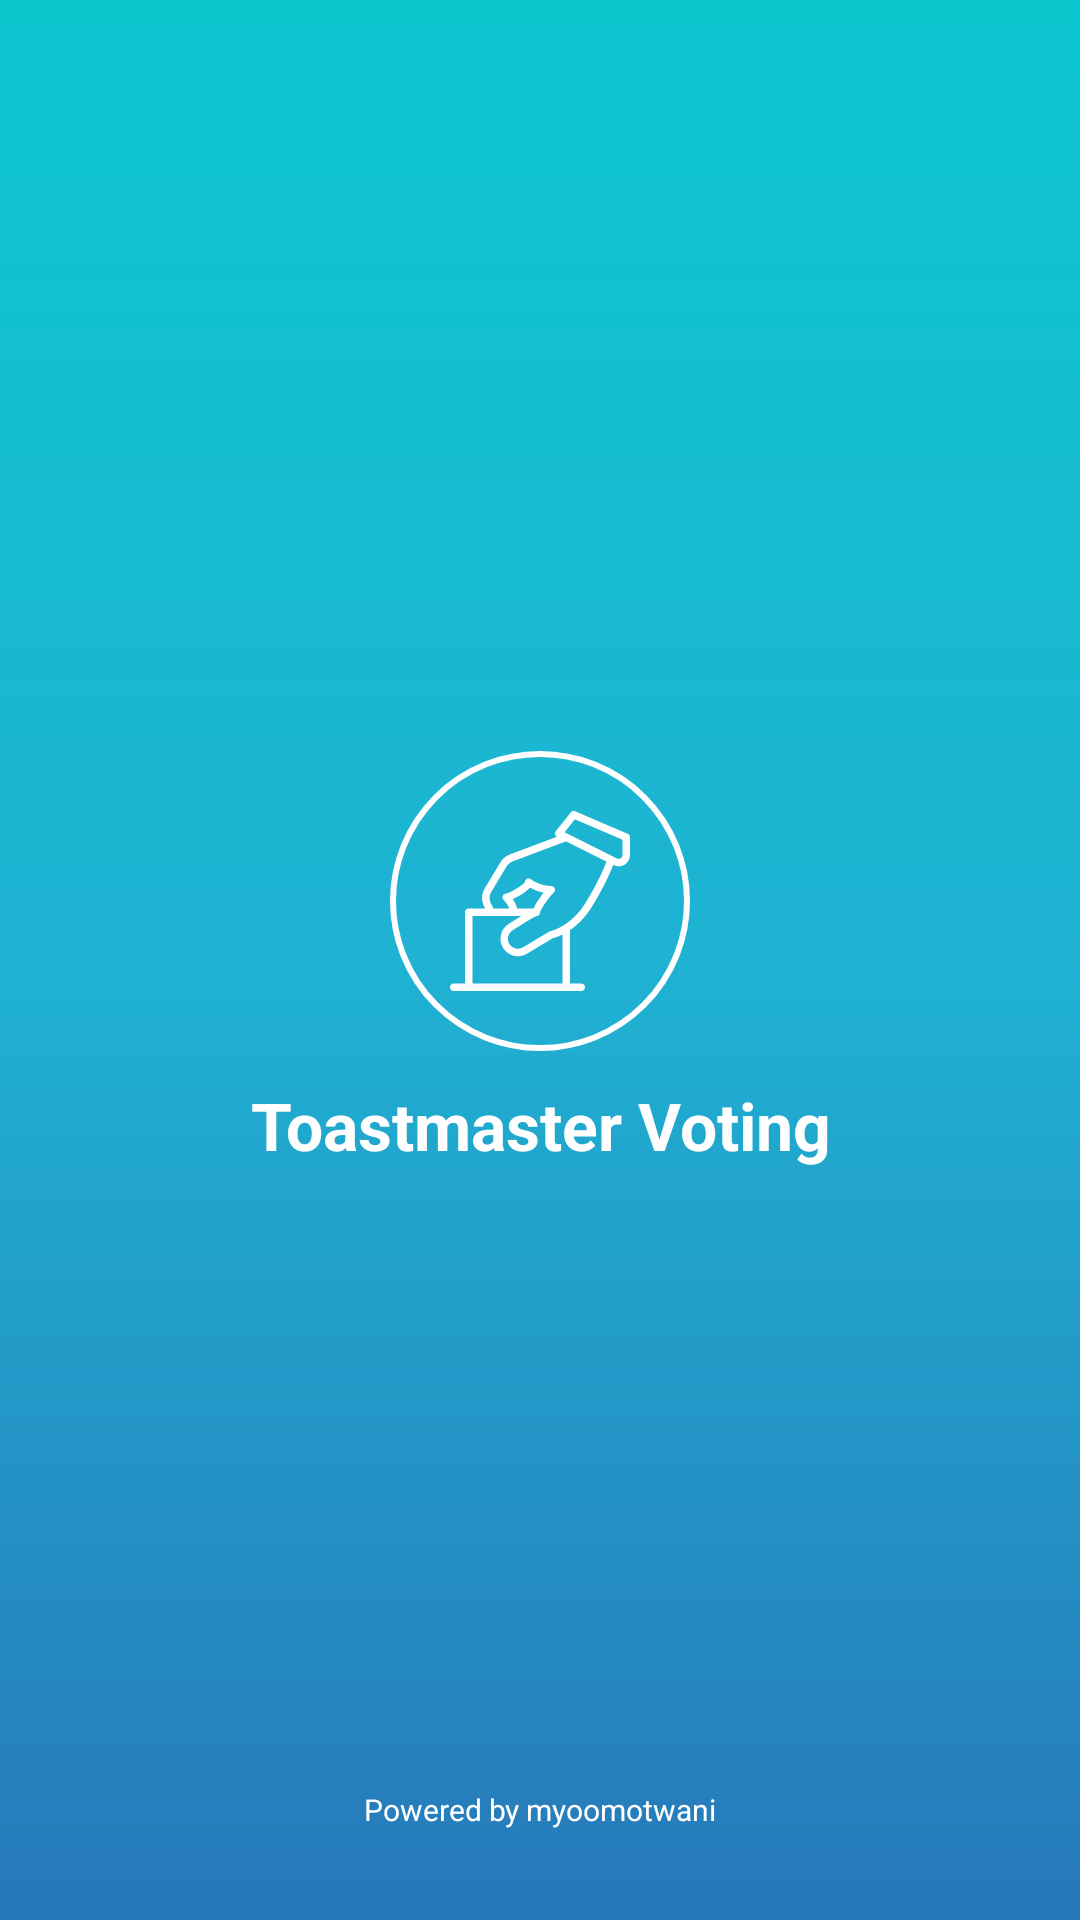

Screen size 1080 × 1920. Icon name, then its box in pixels as (x1, y1, x2, y2):
vote: (450, 811, 630, 991)
